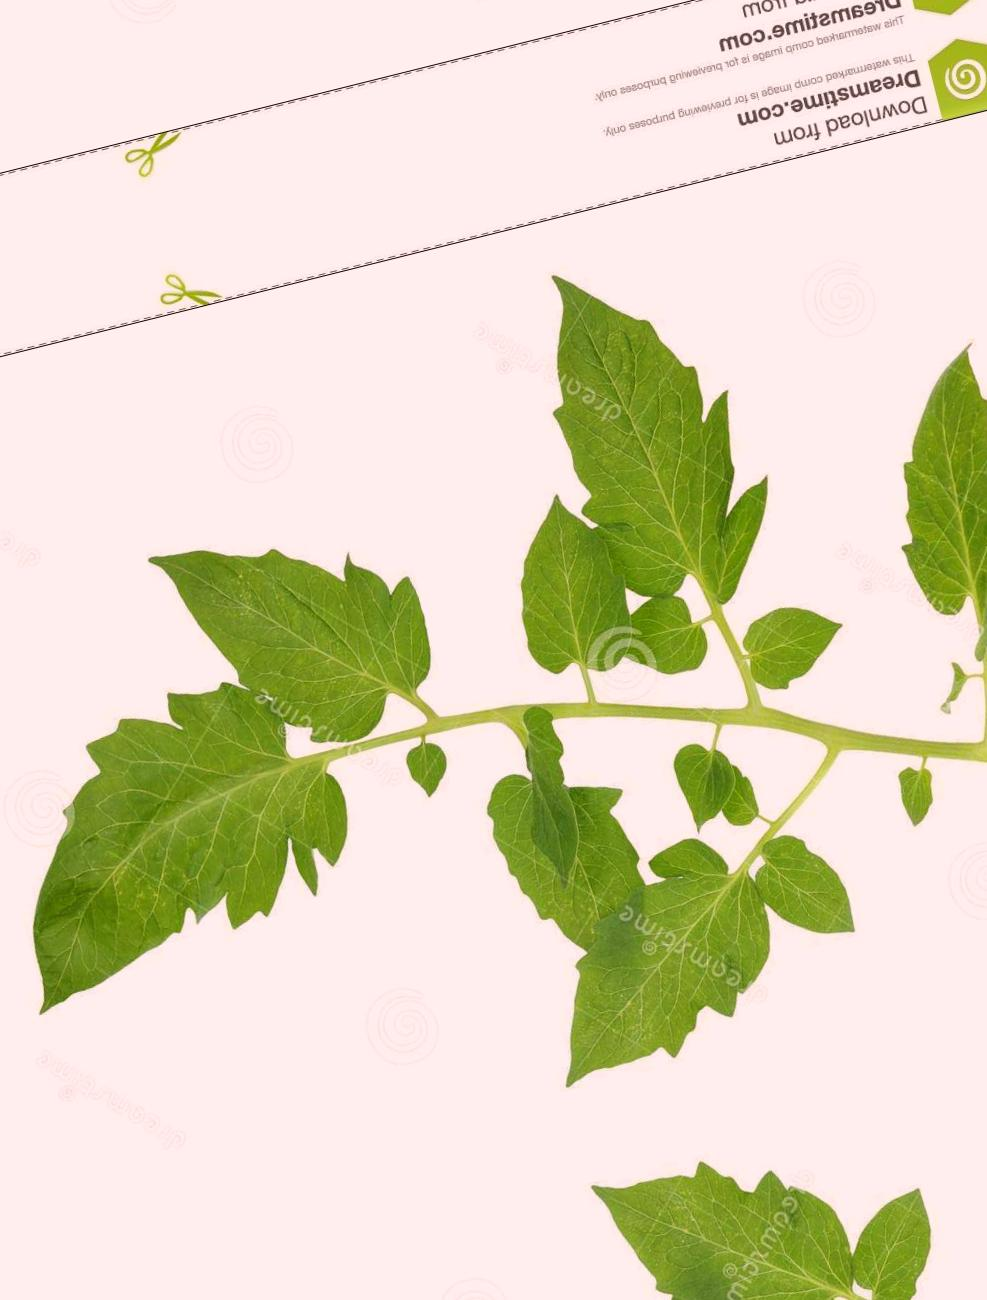Tomato leaf: (0, 662, 402, 1072), (128, 448, 503, 803), (520, 217, 798, 634), (487, 822, 817, 1105), (434, 726, 673, 976), (820, 312, 987, 661), (473, 446, 676, 713)
